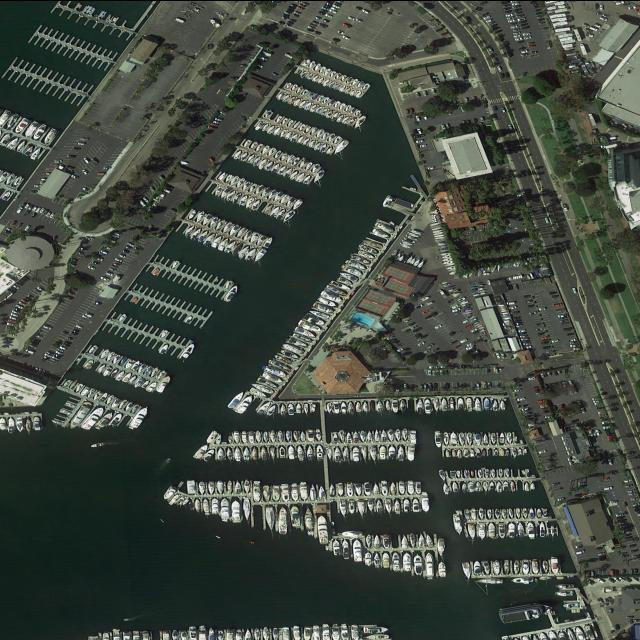large-vehicle: (587, 112, 597, 126), (600, 142, 617, 149), (579, 43, 588, 55)
ship: (495, 598, 555, 624), (66, 400, 93, 429), (80, 405, 106, 429), (128, 405, 151, 428), (235, 393, 255, 413), (226, 389, 246, 408), (248, 380, 275, 394), (296, 318, 322, 332), (95, 410, 115, 428), (267, 357, 292, 371), (316, 514, 328, 543), (178, 342, 197, 360), (154, 374, 173, 392), (3, 111, 21, 130), (12, 116, 31, 134), (22, 119, 41, 137), (280, 341, 305, 354), (263, 364, 288, 377), (222, 283, 240, 301), (332, 138, 351, 155), (255, 376, 280, 388), (261, 370, 284, 383), (319, 290, 343, 302), (32, 122, 48, 140), (43, 126, 59, 144), (451, 512, 464, 534), (278, 506, 288, 534), (312, 301, 335, 313), (303, 313, 326, 325), (294, 325, 317, 337), (351, 113, 368, 129), (192, 443, 210, 458), (342, 264, 364, 276), (303, 505, 314, 529), (311, 167, 327, 183), (161, 484, 178, 499), (373, 221, 396, 232), (329, 279, 352, 290), (325, 284, 348, 295), (351, 538, 362, 561), (361, 237, 383, 248), (346, 258, 368, 269), (308, 308, 330, 319), (279, 348, 301, 359), (281, 208, 297, 223), (256, 399, 272, 414), (265, 505, 275, 529), (424, 552, 434, 576), (28, 145, 44, 160), (252, 247, 268, 262), (5, 135, 22, 149), (338, 270, 359, 281), (316, 296, 337, 307), (291, 331, 312, 342), (287, 336, 308, 347), (289, 505, 300, 526), (412, 553, 423, 574), (108, 411, 123, 426), (350, 253, 371, 263), (204, 429, 219, 443), (474, 576, 504, 583), (220, 497, 230, 518), (10, 173, 25, 187), (202, 231, 217, 245), (223, 239, 238, 253), (583, 623, 596, 639), (573, 624, 586, 640), (242, 496, 251, 519), (273, 353, 293, 363), (231, 499, 241, 519), (363, 625, 388, 633), (380, 193, 394, 207), (3, 171, 17, 185), (15, 139, 29, 153), (217, 236, 231, 250), (201, 447, 216, 460), (511, 575, 535, 583), (371, 227, 390, 237), (249, 386, 268, 396), (402, 551, 412, 570), (291, 197, 305, 210), (190, 226, 203, 240), (244, 247, 258, 260), (237, 244, 251, 257), (231, 241, 244, 255), (210, 234, 224, 247), (341, 537, 350, 557), (207, 16, 222, 28), (358, 243, 377, 252), (391, 551, 400, 570), (281, 482, 290, 501), (299, 481, 308, 500), (421, 492, 430, 511), (243, 195, 256, 208), (272, 189, 285, 202), (197, 229, 210, 242), (214, 217, 227, 230), (234, 225, 247, 238), (220, 220, 234, 232), (240, 229, 254, 241), (186, 479, 197, 494), (357, 249, 375, 258), (437, 537, 446, 555), (290, 482, 299, 500), (340, 529, 363, 536), (201, 212, 213, 225), (194, 209, 206, 222), (183, 224, 196, 236), (249, 198, 262, 210), (262, 202, 275, 214), (269, 204, 281, 217), (256, 157, 269, 169), (265, 403, 278, 415), (363, 633, 389, 639), (22, 144, 35, 156), (228, 223, 241, 235), (550, 556, 559, 573), (462, 561, 471, 578), (332, 538, 341, 555), (262, 484, 271, 501), (308, 482, 317, 499), (253, 482, 261, 501), (114, 369, 126, 381), (337, 275, 353, 284), (238, 193, 250, 205), (275, 207, 287, 219), (278, 192, 290, 204), (467, 522, 476, 538), (381, 551, 390, 567), (350, 623, 359, 639), (437, 560, 446, 576), (380, 479, 389, 495), (208, 215, 220, 227), (409, 428, 418, 444), (231, 191, 243, 203), (255, 233, 267, 245), (145, 380, 158, 391), (265, 188, 278, 199), (218, 187, 231, 198), (547, 524, 558, 537), (248, 231, 261, 242), (263, 235, 274, 248), (407, 443, 415, 460), (315, 443, 323, 460), (339, 498, 347, 515), (502, 559, 511, 574), (317, 484, 326, 499), (158, 342, 170, 353), (83, 358, 95, 369), (121, 371, 133, 382), (133, 376, 145, 387), (130, 358, 141, 370), (295, 171, 307, 182), (284, 195, 296, 206), (260, 186, 272, 197), (253, 183, 265, 194), (228, 174, 240, 185), (251, 155, 263, 166), (168, 493, 180, 504), (68, 377, 80, 388), (1, 189, 13, 200), (225, 189, 237, 200), (7, 416, 15, 432), (527, 521, 535, 537), (478, 522, 486, 538), (434, 430, 442, 446), (211, 497, 219, 513), (272, 484, 280, 500), (233, 446, 242, 460), (296, 444, 305, 458), (197, 480, 206, 494), (99, 347, 110, 358), (149, 366, 160, 377), (235, 176, 246, 187), (264, 159, 275, 170), (437, 468, 447, 480), (498, 522, 506, 537), (492, 559, 500, 574), (79, 385, 91, 395), (85, 387, 97, 397), (91, 389, 103, 399), (104, 394, 116, 404), (243, 478, 251, 493), (342, 446, 350, 461), (369, 445, 377, 460), (397, 445, 405, 460), (333, 446, 341, 461), (357, 499, 365, 514), (375, 498, 383, 513), (346, 481, 354, 496), (222, 279, 234, 289), (24, 417, 32, 431), (242, 445, 250, 459), (260, 445, 268, 459), (287, 444, 295, 458), (306, 444, 314, 458), (517, 521, 525, 535), (507, 522, 515, 536), (440, 396, 448, 410), (474, 396, 482, 410), (473, 559, 481, 573), (382, 533, 390, 547), (351, 446, 359, 460), (360, 445, 368, 459), (366, 497, 374, 511), (363, 481, 371, 495), (310, 162, 321, 172), (285, 153, 296, 163), (266, 146, 277, 156), (260, 144, 271, 154), (245, 153, 256, 163), (232, 149, 243, 159), (318, 142, 329, 152), (127, 374, 138, 384), (111, 353, 122, 363), (105, 350, 116, 360), (87, 343, 98, 353), (96, 363, 107, 373), (102, 366, 113, 376), (118, 355, 129, 365), (136, 362, 147, 372), (142, 365, 153, 375), (155, 369, 166, 379), (288, 169, 299, 179), (283, 166, 294, 176), (277, 164, 288, 174), (247, 182, 258, 192), (270, 162, 281, 172), (98, 391, 109, 401), (110, 397, 121, 407), (117, 398, 128, 408), (123, 400, 134, 410), (129, 403, 140, 413), (213, 185, 224, 195), (16, 416, 23, 431), (488, 522, 495, 537), (532, 558, 539, 573), (553, 590, 574, 595), (203, 497, 210, 512), (194, 497, 201, 512), (409, 532, 416, 547), (348, 498, 355, 513), (385, 497, 392, 512), (541, 559, 549, 572), (373, 534, 381, 547), (234, 479, 242, 492), (400, 534, 408, 547), (347, 400, 355, 413), (393, 499, 401, 512), (407, 480, 415, 493), (389, 481, 397, 494), (254, 120, 264, 130), (264, 108, 274, 118), (302, 173, 312, 183), (312, 140, 322, 150), (109, 367, 119, 377), (124, 358, 134, 368), (335, 112, 345, 122), (330, 110, 340, 120), (287, 94, 297, 104), (187, 209, 197, 219), (214, 433, 224, 443), (554, 582, 574, 587), (176, 494, 186, 504), (314, 128, 325, 137), (326, 132, 337, 141), (302, 100, 313, 109), (73, 382, 84, 391), (251, 445, 258, 459), (33, 415, 40, 429), (432, 396, 439, 410), (466, 396, 473, 410), (466, 431, 473, 445), (522, 559, 529, 573), (513, 559, 520, 573), (483, 560, 490, 574), (364, 550, 371, 564), (217, 479, 224, 493), (226, 479, 233, 493), (379, 445, 386, 459), (388, 444, 395, 458), (412, 497, 419, 511), (376, 400, 384, 412), (372, 482, 380, 494), (217, 446, 224, 459), (269, 445, 276, 458), (255, 429, 262, 442), (248, 430, 255, 443), (233, 429, 240, 442), (50, 418, 63, 425), (416, 398, 423, 411), (483, 396, 490, 409), (450, 430, 457, 443), (373, 552, 380, 565), (392, 399, 399, 412), (208, 480, 215, 493), (426, 533, 433, 546), (418, 533, 425, 546), (339, 429, 346, 442), (315, 427, 322, 440), (403, 498, 410, 511), (398, 480, 405, 493), (355, 482, 362, 495), (56, 410, 69, 417), (309, 126, 319, 135), (266, 124, 276, 133), (260, 122, 270, 131), (320, 131, 330, 140), (298, 158, 308, 167), (291, 156, 301, 165), (279, 151, 289, 160), (272, 149, 282, 158), (239, 151, 249, 160), (254, 142, 264, 151), (242, 138, 252, 147), (278, 128, 288, 137), (290, 132, 300, 141), (301, 136, 311, 145), (140, 378, 150, 387), (308, 102, 318, 111), (292, 97, 302, 106), (276, 90, 285, 100), (170, 259, 180, 268), (241, 180, 251, 189), (223, 173, 233, 182), (539, 521, 545, 536), (443, 430, 449, 445), (117, 312, 127, 321), (451, 480, 459, 491), (61, 378, 72, 386), (407, 234, 419, 241), (287, 402, 294, 414), (278, 445, 285, 457), (59, 407, 71, 414), (449, 396, 455, 410), (457, 396, 464, 408), (470, 507, 477, 519), (424, 398, 431, 410), (64, 400, 76, 407), (90, 441, 104, 447), (387, 428, 394, 440), (380, 429, 387, 441), (373, 428, 380, 440), (366, 429, 373, 441), (340, 401, 347, 413), (337, 481, 343, 495), (307, 428, 314, 440), (173, 16, 185, 23), (292, 119, 301, 128), (249, 140, 258, 149), (272, 126, 281, 135), (296, 134, 305, 143), (307, 138, 316, 147), (346, 117, 355, 126), (341, 114, 350, 123), (320, 106, 329, 115), (298, 99, 307, 108), (281, 93, 290, 102), (295, 84, 304, 93), (393, 251, 402, 260), (218, 170, 227, 179), (304, 161, 314, 169), (324, 109, 334, 117), (399, 242, 412, 248), (270, 429, 276, 442), (459, 431, 465, 444), (366, 533, 372, 546), (402, 427, 408, 440), (333, 400, 339, 413), (399, 398, 406, 409), (274, 114, 283, 122), (323, 67, 332, 75), (350, 77, 359, 85), (356, 79, 365, 87), (332, 135, 341, 143), (284, 130, 293, 138), (321, 78, 330, 86), (160, 329, 169, 337), (315, 104, 324, 112), (404, 237, 416, 243), (416, 259, 425, 267), (408, 231, 420, 237), (412, 258, 421, 266), (226, 446, 232, 458), (277, 429, 283, 441), (241, 430, 247, 442), (443, 482, 449, 494), (475, 432, 481, 444), (506, 431, 512, 443), (478, 506, 484, 518), (561, 602, 579, 606), (395, 428, 401, 440), (360, 429, 366, 441), (415, 481, 421, 493), (299, 430, 306, 440), (280, 403, 286, 414), (263, 430, 269, 441), (468, 480, 474, 491), (503, 479, 509, 490), (492, 399, 498, 410), (499, 431, 505, 442), (464, 508, 470, 519), (353, 430, 359, 441), (346, 431, 352, 442), (448, 269, 459, 275), (441, 259, 454, 264), (286, 118, 294, 126), (313, 62, 321, 70), (333, 82, 341, 90), (316, 93, 324, 101), (322, 95, 330, 103), (344, 103, 352, 111), (131, 295, 139, 303), (152, 267, 160, 275), (405, 255, 413, 263), (297, 123, 306, 130), (280, 117, 289, 124), (302, 58, 311, 65), (318, 65, 327, 72), (361, 82, 370, 89), (299, 70, 308, 77), (338, 84, 347, 91), (332, 100, 341, 107), (184, 315, 193, 322), (402, 240, 414, 245), (410, 229, 422, 234), (441, 256, 453, 261), (303, 403, 309, 413), (475, 480, 481, 490), (496, 480, 502, 490), (500, 399, 506, 409), (482, 432, 488, 442), (486, 508, 492, 518), (494, 508, 500, 518), (501, 508, 507, 518), (522, 507, 528, 517), (326, 448, 332, 458), (332, 431, 338, 441), (326, 402, 332, 412), (355, 401, 361, 411), (362, 400, 368, 410), (385, 399, 391, 409), (329, 482, 334, 494), (451, 291, 461, 297), (308, 60, 316, 67), (329, 70, 337, 77), (306, 72, 314, 79), (325, 146, 333, 153), (344, 86, 352, 93), (349, 88, 357, 95), (290, 83, 298, 90), (300, 88, 308, 95), (311, 92, 319, 99), (327, 98, 335, 105), (338, 102, 346, 109), (349, 106, 357, 113), (409, 256, 417, 263), (181, 498, 189, 505), (296, 402, 301, 413), (293, 429, 298, 440), (510, 480, 515, 491), (491, 432, 496, 443), (508, 507, 513, 518), (529, 506, 534, 517), (475, 447, 481, 456), (463, 448, 469, 457), (456, 448, 462, 457), (539, 575, 552, 579), (429, 221, 439, 226), (285, 430, 290, 440), (483, 480, 488, 490), (505, 467, 510, 477), (524, 480, 529, 490), (512, 447, 517, 457), (536, 507, 541, 517), (328, 80, 335, 87), (340, 74, 347, 81), (346, 76, 353, 83), (312, 74, 319, 81), (317, 76, 324, 83), (355, 90, 362, 97), (285, 81, 292, 88), (304, 125, 312, 131), (432, 230, 444, 234), (433, 233, 445, 237), (439, 251, 451, 255), (228, 434, 233, 443), (477, 468, 482, 477), (484, 468, 489, 477), (498, 467, 503, 476), (489, 480, 494, 489), (180, 159, 189, 164), (420, 295, 429, 300), (445, 284, 454, 289), (457, 296, 466, 301), (430, 224, 441, 228), (430, 226, 441, 230), (432, 228, 443, 232), (434, 235, 445, 239), (441, 254, 452, 258), (516, 507, 520, 518), (444, 262, 455, 266), (445, 265, 456, 269), (335, 72, 342, 78), (398, 254, 405, 260), (311, 403, 316, 411), (491, 468, 496, 476), (463, 469, 468, 477), (469, 448, 474, 456), (499, 447, 504, 455), (355, 109, 361, 115), (462, 482, 466, 491), (437, 241, 446, 245), (450, 470, 455, 477), (456, 470, 461, 477), (493, 448, 498, 455), (482, 449, 487, 456), (111, 16, 118, 21), (517, 448, 522, 455), (452, 448, 456, 456), (445, 448, 449, 456), (543, 507, 547, 515), (563, 618, 571, 622), (472, 292, 480, 296), (466, 313, 474, 317), (468, 315, 476, 319), (478, 325, 486, 329), (486, 278, 491, 284), (521, 468, 526, 474), (476, 289, 486, 292), (94, 425, 101, 429), (482, 271, 489, 275), (441, 280, 448, 284), (464, 310, 471, 314), (474, 322, 481, 326), (476, 323, 483, 327), (409, 186, 416, 190), (428, 219, 437, 222), (531, 482, 535, 488), (325, 544, 329, 550), (514, 435, 518, 441), (469, 285, 477, 288), (459, 300, 465, 304), (466, 312, 472, 316), (427, 210, 435, 213), (428, 213, 436, 216), (389, 220, 395, 224), (122, 617, 129, 620), (429, 215, 436, 218), (331, 521, 335, 526), (166, 457, 171, 461), (307, 530, 311, 534), (429, 217, 437, 219), (410, 202, 414, 206), (471, 470, 474, 475)
small-vehicle: (24, 347, 35, 354), (99, 275, 110, 281), (258, 54, 269, 60), (27, 342, 38, 348), (138, 198, 147, 205), (30, 211, 39, 218), (23, 208, 32, 215), (269, 70, 279, 76), (581, 22, 591, 28), (493, 28, 503, 34), (584, 31, 594, 37), (254, 61, 264, 67), (75, 249, 85, 255), (19, 297, 29, 303), (14, 303, 24, 309), (395, 346, 405, 352), (451, 306, 461, 312), (458, 337, 468, 343), (465, 344, 475, 350), (90, 156, 98, 163), (157, 173, 165, 180), (16, 221, 24, 228), (15, 206, 23, 213), (597, 597, 605, 604), (317, 22, 328, 27), (59, 329, 70, 334), (284, 52, 293, 58), (293, 9, 302, 15), (70, 173, 79, 179), (324, 12, 333, 18), (341, 34, 350, 40), (121, 247, 130, 253), (298, 2, 307, 8), (81, 313, 90, 319), (84, 311, 93, 317), (103, 244, 112, 250), (16, 278, 25, 284), (14, 280, 23, 286), (607, 576, 616, 582), (416, 340, 425, 346), (403, 327, 412, 333), (425, 342, 434, 348), (453, 309, 462, 315), (307, 24, 317, 29), (331, 3, 341, 8), (360, 8, 370, 13), (341, 22, 351, 27), (540, 25, 550, 30), (488, 23, 498, 28), (299, 0, 309, 5), (203, 129, 213, 134), (74, 323, 84, 328), (66, 290, 76, 295), (42, 323, 52, 328), (93, 255, 103, 260), (10, 308, 20, 313), (589, 26, 599, 31), (619, 523, 629, 528), (607, 135, 617, 140), (25, 201, 32, 208), (31, 204, 38, 211), (38, 206, 45, 213), (552, 403, 559, 410), (562, 203, 569, 210), (82, 156, 90, 162), (207, 156, 215, 162), (331, 5, 339, 11), (82, 185, 90, 191), (22, 274, 30, 280), (23, 295, 31, 301), (597, 577, 605, 583), (587, 578, 595, 584), (423, 347, 431, 353), (431, 346, 439, 352), (451, 303, 459, 309), (465, 322, 473, 328), (475, 337, 483, 343), (440, 30, 449, 35), (214, 116, 223, 121), (321, 6, 330, 11), (109, 263, 118, 268), (104, 270, 113, 275), (328, 8, 337, 13), (599, 16, 608, 21), (484, 17, 493, 22), (93, 299, 102, 304), (65, 293, 74, 298), (32, 337, 41, 342), (534, 10, 543, 15), (491, 25, 500, 30), (44, 352, 53, 357), (58, 344, 67, 349), (99, 248, 108, 253), (124, 244, 133, 249), (19, 277, 28, 282), (17, 300, 26, 305), (13, 306, 22, 311), (9, 311, 18, 316), (575, 549, 584, 554), (618, 520, 627, 525), (574, 543, 583, 548), (538, 448, 547, 453), (624, 482, 633, 487), (528, 375, 537, 380), (412, 326, 421, 331), (527, 422, 536, 427), (414, 303, 423, 308), (433, 323, 442, 328), (430, 22, 439, 27), (435, 26, 444, 31), (470, 349, 479, 354), (554, 301, 563, 306), (516, 396, 525, 401), (475, 333, 484, 338), (513, 317, 522, 322), (78, 136, 89, 140), (556, 313, 567, 317), (81, 168, 88, 174), (146, 224, 153, 230), (142, 195, 149, 201), (28, 203, 35, 209), (465, 15, 472, 21), (446, 107, 452, 114), (36, 367, 42, 374), (613, 576, 620, 582), (595, 428, 601, 435), (544, 216, 550, 223), (459, 105, 466, 111), (414, 114, 421, 120), (416, 127, 422, 134), (464, 119, 471, 125), (507, 123, 514, 129), (289, 17, 297, 22), (325, 1, 333, 6), (323, 3, 331, 8), (318, 10, 326, 15), (66, 153, 76, 157), (6, 226, 14, 231), (521, 31, 531, 35), (615, 0, 625, 4), (593, 22, 601, 27), (355, 17, 363, 22), (347, 15, 355, 20), (333, 37, 341, 42), (487, 20, 495, 25), (113, 259, 121, 264), (90, 260, 100, 264), (163, 187, 171, 192), (296, 5, 306, 9), (289, 2, 297, 7), (286, 7, 294, 12), (207, 125, 217, 129), (55, 349, 63, 354), (57, 347, 65, 352), (78, 246, 88, 250), (87, 264, 95, 269), (12, 283, 20, 288), (36, 285, 44, 290), (33, 287, 41, 292), (26, 293, 34, 298), (8, 314, 16, 319), (619, 550, 627, 555), (618, 576, 626, 581), (602, 485, 612, 489), (601, 476, 609, 481), (410, 324, 418, 329), (446, 298, 454, 303), (461, 318, 469, 323), (470, 327, 478, 332), (472, 329, 480, 334), (426, 17, 434, 22), (415, 133, 425, 137), (453, 343, 461, 348), (513, 321, 523, 325), (523, 344, 533, 348), (528, 310, 538, 314), (212, 119, 221, 123), (114, 257, 123, 261), (111, 262, 120, 266), (149, 185, 155, 191), (24, 224, 30, 230), (518, 19, 527, 23), (509, 24, 518, 28), (511, 27, 520, 31), (514, 36, 523, 40), (523, 35, 532, 39), (488, 46, 494, 52), (493, 57, 499, 63), (496, 65, 502, 71), (601, 13, 610, 17), (322, 18, 331, 22), (507, 18, 516, 22), (482, 15, 491, 19), (535, 13, 544, 17), (536, 17, 545, 21), (502, 6, 511, 10), (511, 1, 520, 5), (514, 10, 523, 14), (504, 9, 513, 13), (505, 12, 514, 16), (117, 253, 126, 257), (593, 401, 602, 405), (595, 405, 604, 409), (599, 414, 608, 418), (604, 427, 613, 431), (605, 429, 614, 433), (70, 257, 79, 261), (516, 39, 525, 43), (287, 5, 296, 9), (210, 122, 219, 126), (108, 238, 117, 242), (113, 231, 122, 235), (111, 233, 120, 237), (6, 321, 15, 325), (615, 512, 624, 516), (630, 548, 639, 552), (595, 545, 604, 549), (532, 385, 541, 389), (597, 551, 606, 555), (607, 458, 613, 464), (623, 478, 632, 482), (537, 398, 546, 402), (559, 402, 565, 408), (570, 418, 579, 422), (533, 439, 542, 443), (580, 406, 586, 412), (629, 496, 638, 500), (627, 491, 636, 495), (383, 331, 392, 335), (385, 335, 394, 339), (492, 104, 498, 110), (472, 95, 478, 101), (463, 96, 469, 102), (430, 87, 436, 93), (427, 165, 436, 169), (500, 106, 506, 112), (556, 307, 565, 311), (560, 318, 569, 322), (561, 320, 570, 324), (563, 326, 572, 330), (568, 337, 577, 341), (556, 368, 562, 374), (519, 403, 528, 407), (500, 352, 506, 358), (506, 300, 515, 304), (510, 310, 519, 314), (511, 315, 520, 319), (515, 323, 524, 327), (517, 328, 526, 332), (522, 341, 531, 345), (512, 283, 518, 289), (45, 211, 52, 216), (49, 212, 56, 217), (314, 29, 321, 34), (127, 241, 134, 246), (40, 369, 47, 374), (561, 380, 566, 387), (281, 15, 289, 19), (286, 20, 294, 24), (315, 15, 323, 19), (311, 20, 319, 24), (307, 27, 315, 31), (54, 158, 62, 162), (108, 266, 116, 270), (520, 22, 528, 26), (521, 25, 529, 29), (520, 48, 528, 52), (628, 5, 636, 9), (517, 16, 525, 20), (509, 21, 517, 25), (502, 3, 510, 7), (512, 4, 520, 8), (514, 7, 522, 11), (595, 403, 603, 407), (598, 412, 606, 416), (600, 417, 608, 421), (532, 4, 540, 8), (534, 7, 542, 11), (69, 259, 77, 263), (51, 355, 59, 359), (35, 333, 43, 337), (66, 335, 74, 339), (70, 331, 78, 335), (72, 328, 80, 332), (551, 481, 559, 485), (581, 492, 589, 496), (557, 496, 565, 500), (609, 499, 617, 503), (624, 532, 632, 536), (629, 542, 637, 546), (621, 553, 629, 557), (544, 414, 552, 418), (588, 432, 596, 436), (627, 488, 635, 492), (534, 388, 542, 392), (421, 309, 429, 313), (415, 138, 423, 142), (419, 143, 427, 147), (516, 192, 524, 196), (566, 331, 574, 335), (514, 388, 522, 392), (522, 409, 530, 413), (551, 293, 559, 297), (551, 338, 559, 342), (525, 298, 533, 302), (535, 326, 543, 330), (538, 306, 546, 310), (534, 321, 542, 325), (543, 344, 551, 348), (35, 206, 41, 211), (42, 209, 48, 214), (505, 71, 510, 77), (409, 107, 414, 113), (405, 108, 410, 114), (412, 128, 417, 134), (32, 367, 38, 372), (622, 500, 627, 506), (590, 570, 595, 576), (576, 399, 582, 404), (615, 623, 620, 629), (422, 90, 427, 96), (415, 91, 420, 97), (422, 114, 428, 119), (441, 123, 446, 129), (479, 115, 484, 121), (572, 286, 577, 292), (546, 370, 551, 376), (568, 380, 574, 385), (487, 381, 492, 387), (495, 352, 500, 358), (508, 305, 518, 308), (292, 13, 299, 17), (283, 10, 290, 14), (321, 8, 328, 12), (516, 13, 523, 17), (355, 5, 362, 9), (337, 29, 344, 33), (538, 20, 545, 24), (610, 568, 614, 575), (408, 321, 415, 325), (403, 383, 407, 390), (423, 383, 427, 390), (428, 382, 432, 389), (445, 382, 449, 389), (476, 382, 480, 389), (484, 381, 488, 388), (522, 407, 529, 411), (525, 413, 532, 417), (538, 330, 545, 334), (540, 335, 547, 339), (97, 171, 106, 174), (102, 165, 111, 168), (229, 76, 238, 79), (77, 141, 86, 144), (526, 41, 535, 44), (527, 44, 536, 47), (622, 2, 631, 5), (506, 16, 515, 19), (606, 432, 615, 435), (6, 332, 15, 335), (578, 481, 587, 484), (539, 404, 548, 407), (616, 515, 625, 518), (570, 343, 579, 346), (520, 337, 529, 340), (541, 340, 550, 343), (500, 72, 505, 77), (445, 123, 450, 128), (472, 117, 477, 122), (540, 372, 545, 377), (622, 143, 630, 146), (285, 22, 291, 26), (309, 23, 317, 26), (33, 183, 41, 186), (73, 146, 81, 149), (513, 34, 521, 37), (520, 52, 528, 55), (599, 4, 603, 10), (6, 318, 14, 321), (629, 568, 633, 574), (622, 568, 626, 574), (587, 570, 591, 576), (540, 407, 548, 410), (542, 409, 550, 412), (597, 410, 605, 413), (593, 399, 601, 402), (601, 420, 609, 423), (608, 437, 616, 440), (626, 615, 634, 618), (419, 382, 422, 390), (433, 382, 437, 388), (550, 290, 558, 293), (569, 340, 577, 343), (573, 346, 581, 349), (526, 417, 534, 420), (545, 349, 553, 352), (522, 339, 530, 342), (513, 31, 520, 34), (532, 2, 539, 5), (519, 46, 526, 49), (592, 396, 599, 399), (603, 423, 610, 426), (603, 425, 610, 428), (608, 435, 615, 438), (520, 334, 527, 337), (5, 325, 15, 327), (608, 608, 612, 613), (615, 568, 618, 574), (381, 347, 390, 349), (380, 344, 388, 346)
